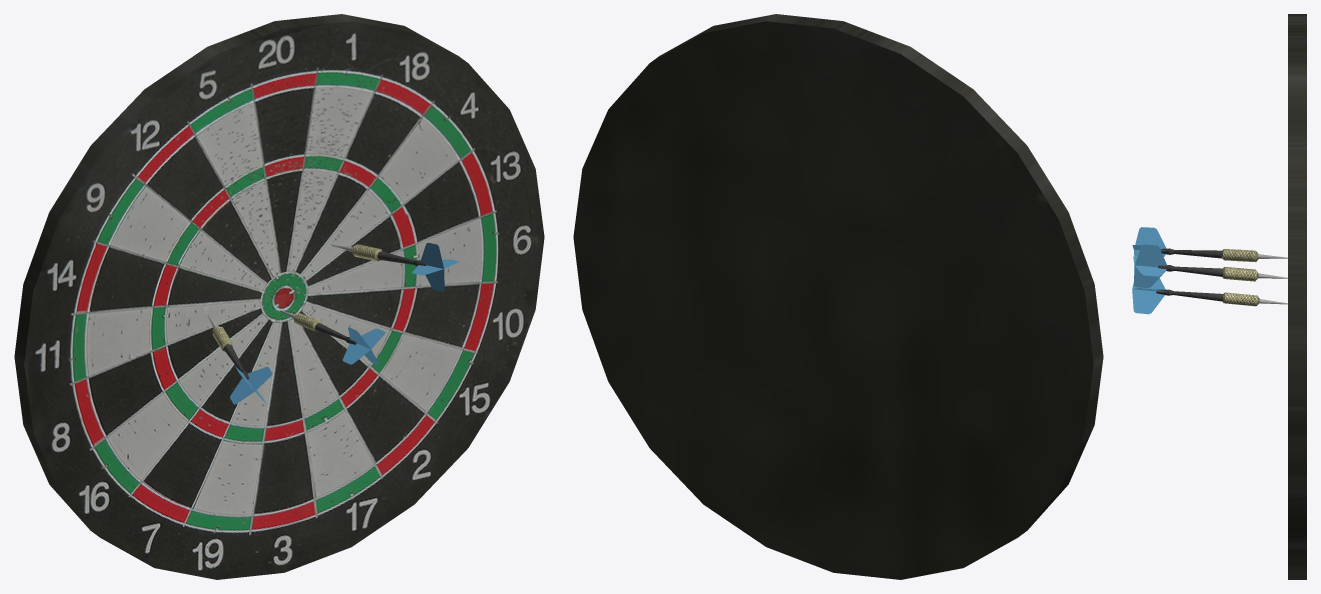
The model's file is Darts.dae.
3 renders of one model, left to right at view 1: azimuth 30°, elevation 25°; view 2: azimuth 150°, elevation 25°; view 3: azimuth 270°, elevation 25°, orthographic. The views are drawn at different scales.
Parts seen in each view (by area): view 1: group_0, group_1 (×3), Group_2; view 2: group_0; view 3: group_0, Group_2 (×3), group_1 (×3).
Boxes of the visible parts, left/top/right/bottom form: group_0: left=14, top=14, right=544, bottom=579; group_1 (×3): left=230, top=242, right=458, bottom=404; Group_2: left=332, top=244, right=426, bottom=266; group_0: left=573, top=14, right=1103, bottom=579; group_0: left=1288, top=14, right=1306, bottom=579; Group_2 (×3): left=1156, top=248, right=1287, bottom=306; group_1 (×3): left=1132, top=227, right=1167, bottom=314.
Size of the model in its own units: 20.57 by 6.32 by 20.57.
